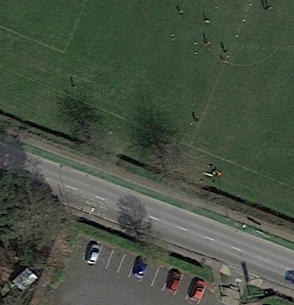tree: (132, 101, 209, 198), (47, 81, 127, 172)
